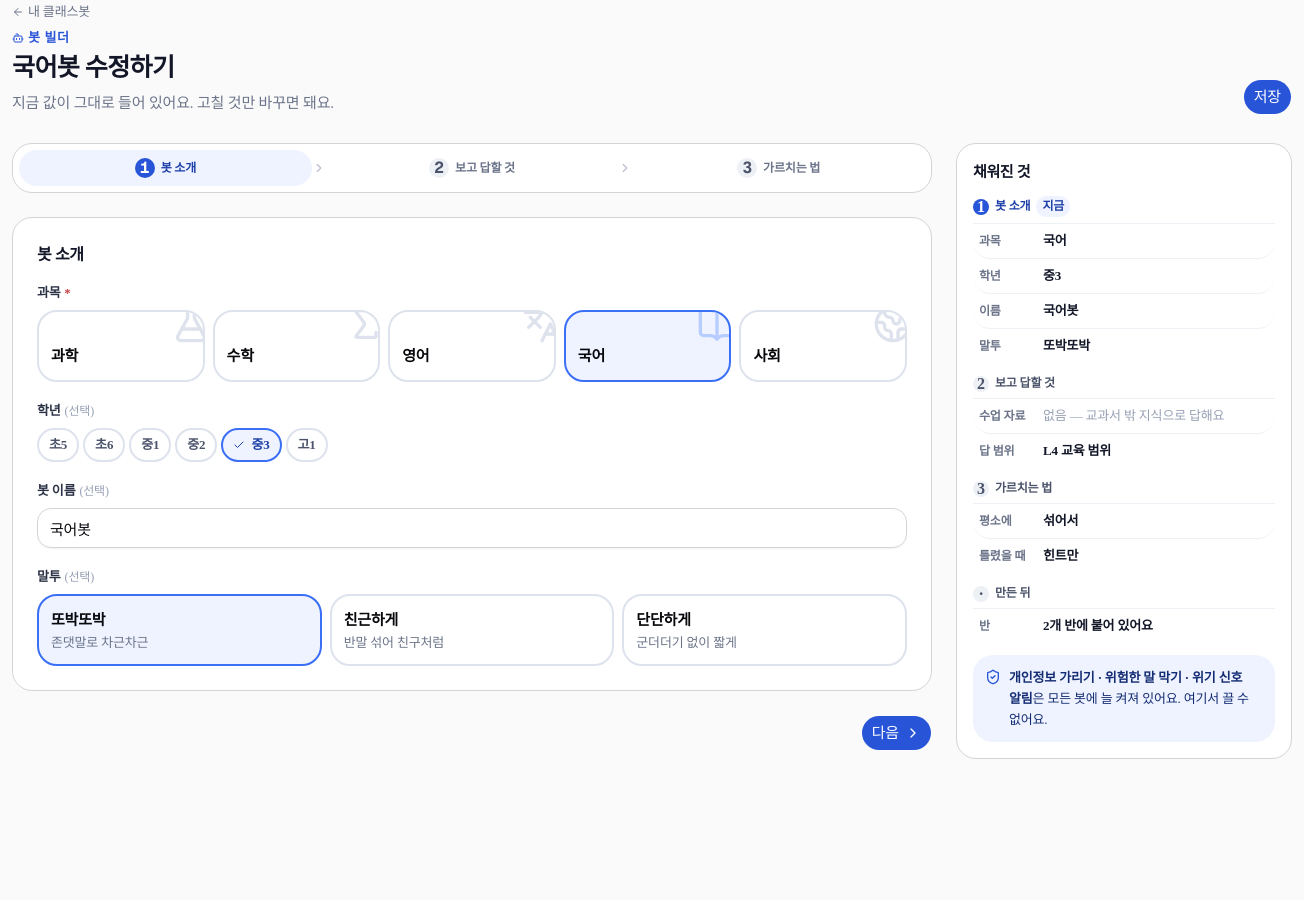
Test: 마당은 빌더와 같이 움직인다 › 막힌 것을 고치면 오류가 사라진다
This screenshot has width=1304, height=900.
Type "봇" into the field labelled "봇 이름 (선택)". click: (472, 528)
box: x1=37 y1=508 x2=907 y2=548
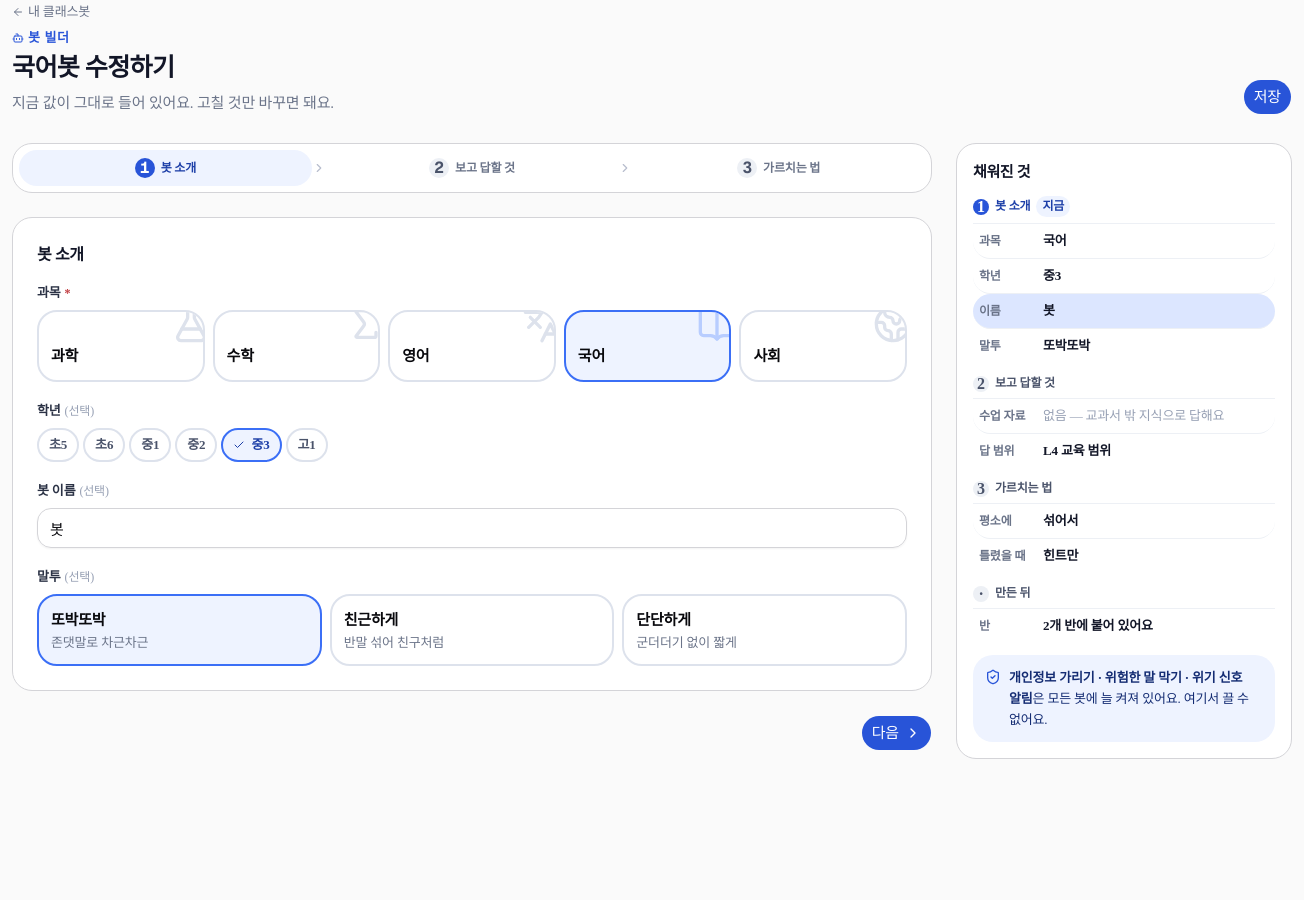
Click the button with aria-label "고친 그대로 저장하기". click: (1267, 97)
box: x1=1243 y1=79 x2=1292 y2=115
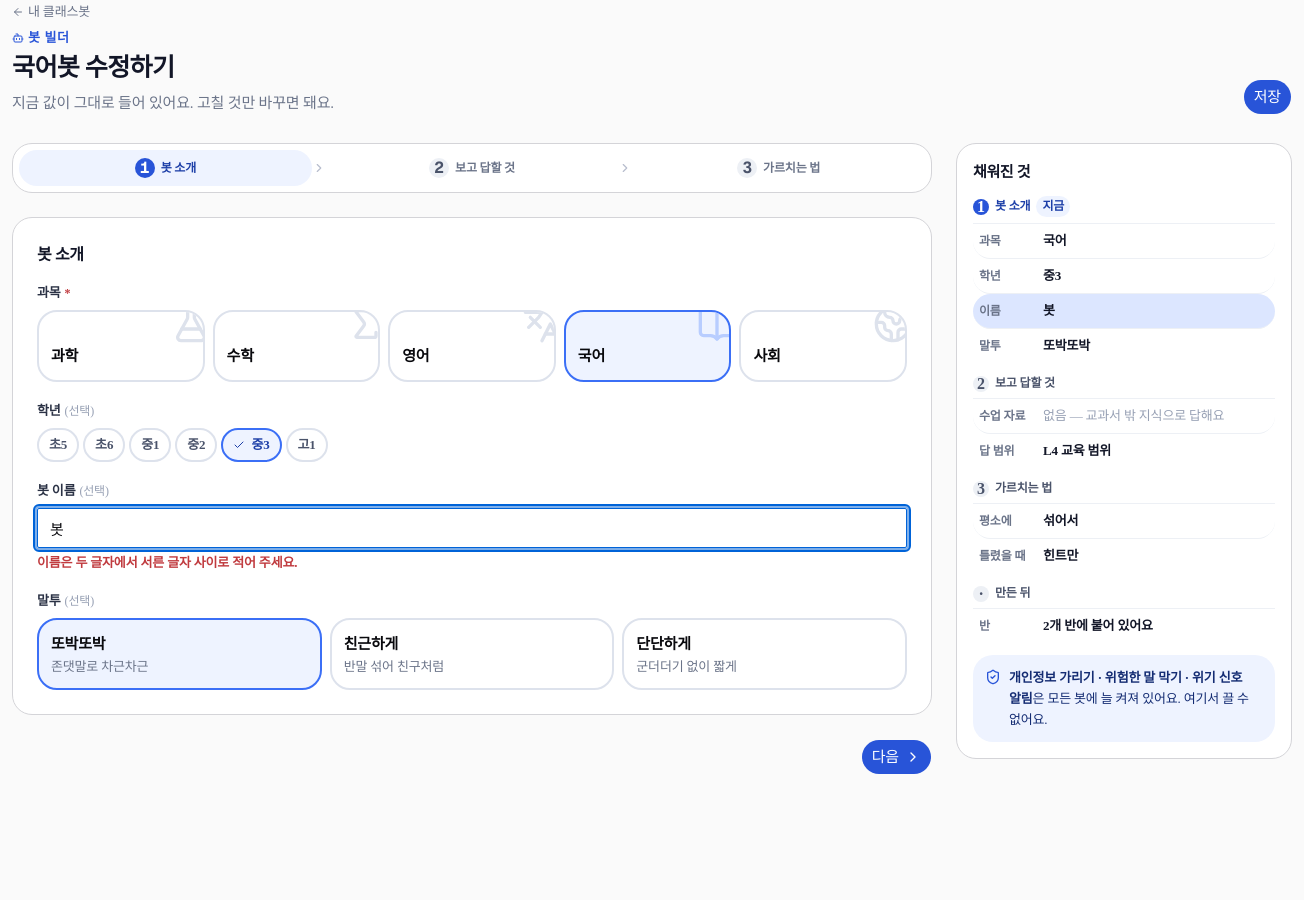
Check: the message "이름은 두 글자에서 서른 글자 사이로 적어 주세요." is shown, box x1=37 y1=555 x2=297 y2=570
Replace the text in the field labelled "봇 이름 (선택)" with "국어봇2". click: (472, 528)
box: x1=37 y1=508 x2=907 y2=548
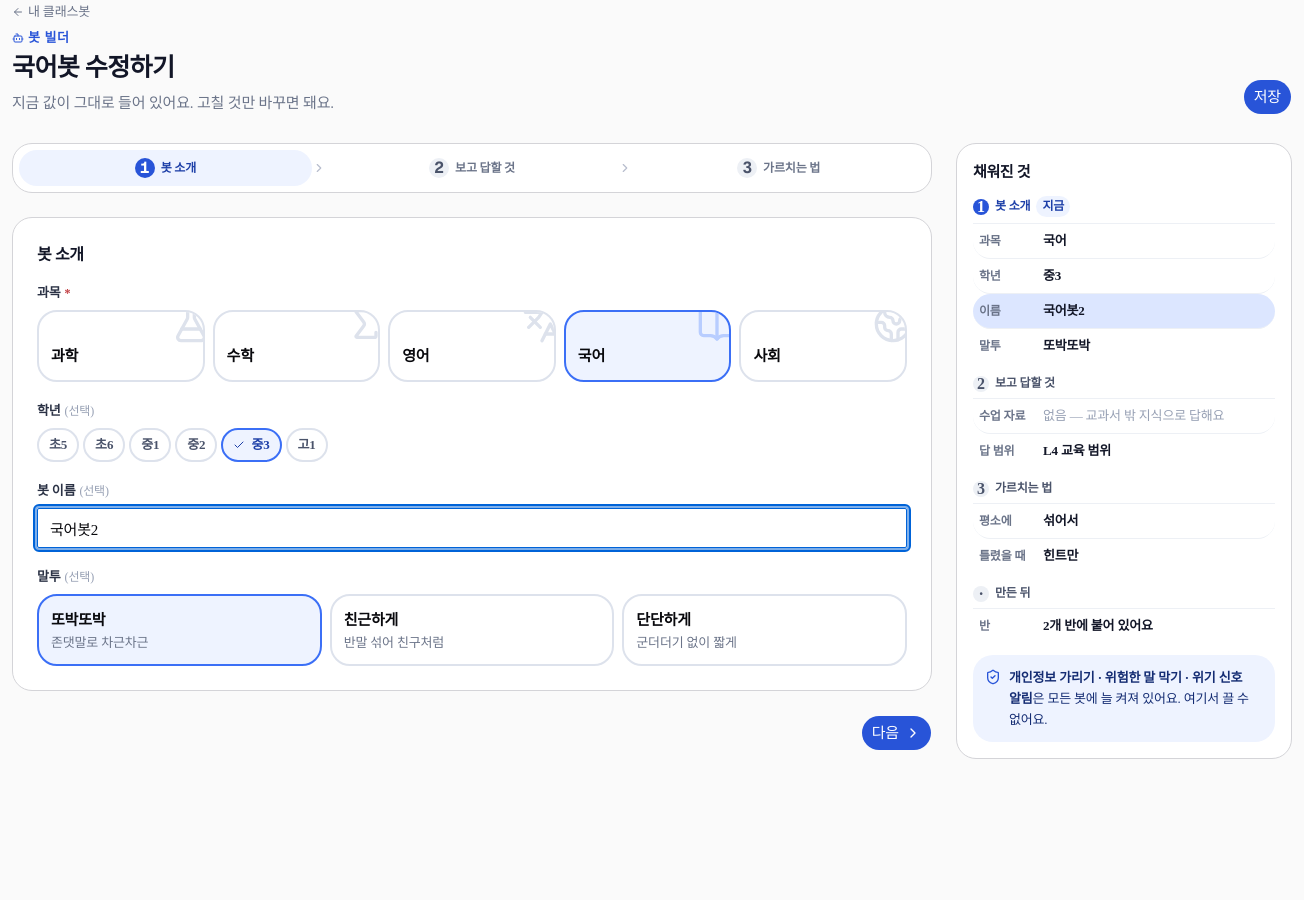
Check: the message "이름은 두 글자에서 서른 글자 사이로 적어 주세요." is gone
Check: the element with test id "summary-row-name" shows "국어봇2", box x1=1043 y1=303 x2=1085 y2=318
